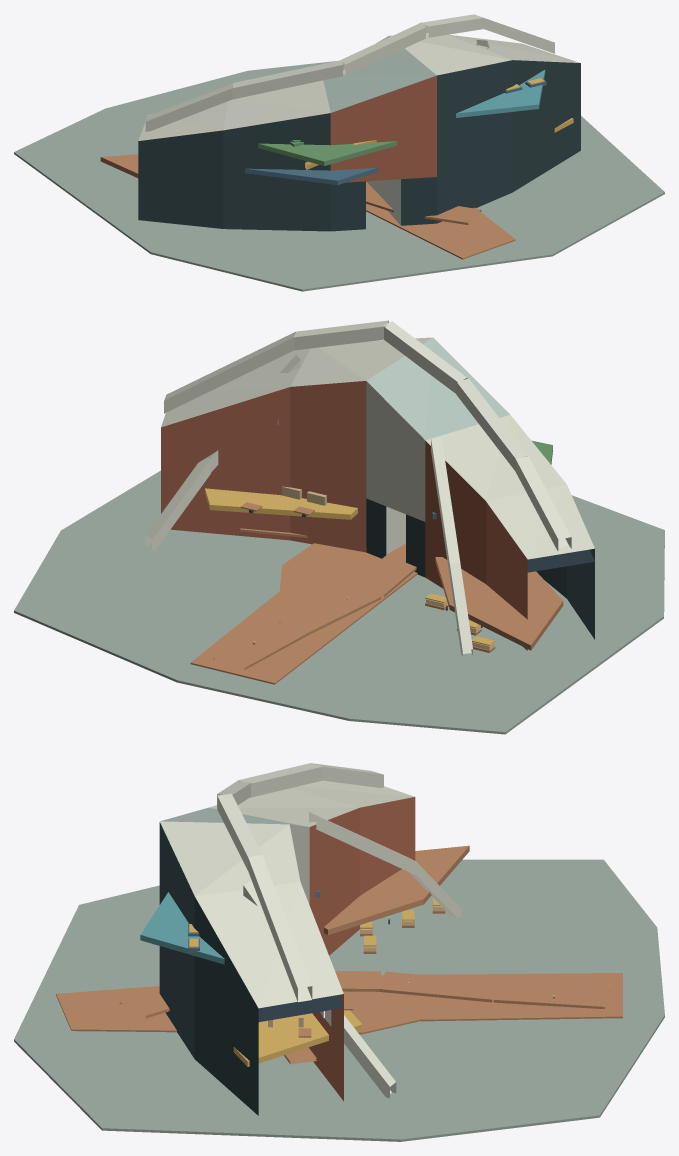
Rendered from a47_braided_civic_threshold.obj.
The picture shows the model from 3 angles, top to bottom: view 1: azimuth 30°, elevation 25°; view 2: azimuth 150°, elevation 25°; view 3: azimuth 270°, elevation 25°; orthographic projection. The views are drawn at different scales.
Size of the model in its own units: 173 by 65 by 170.
